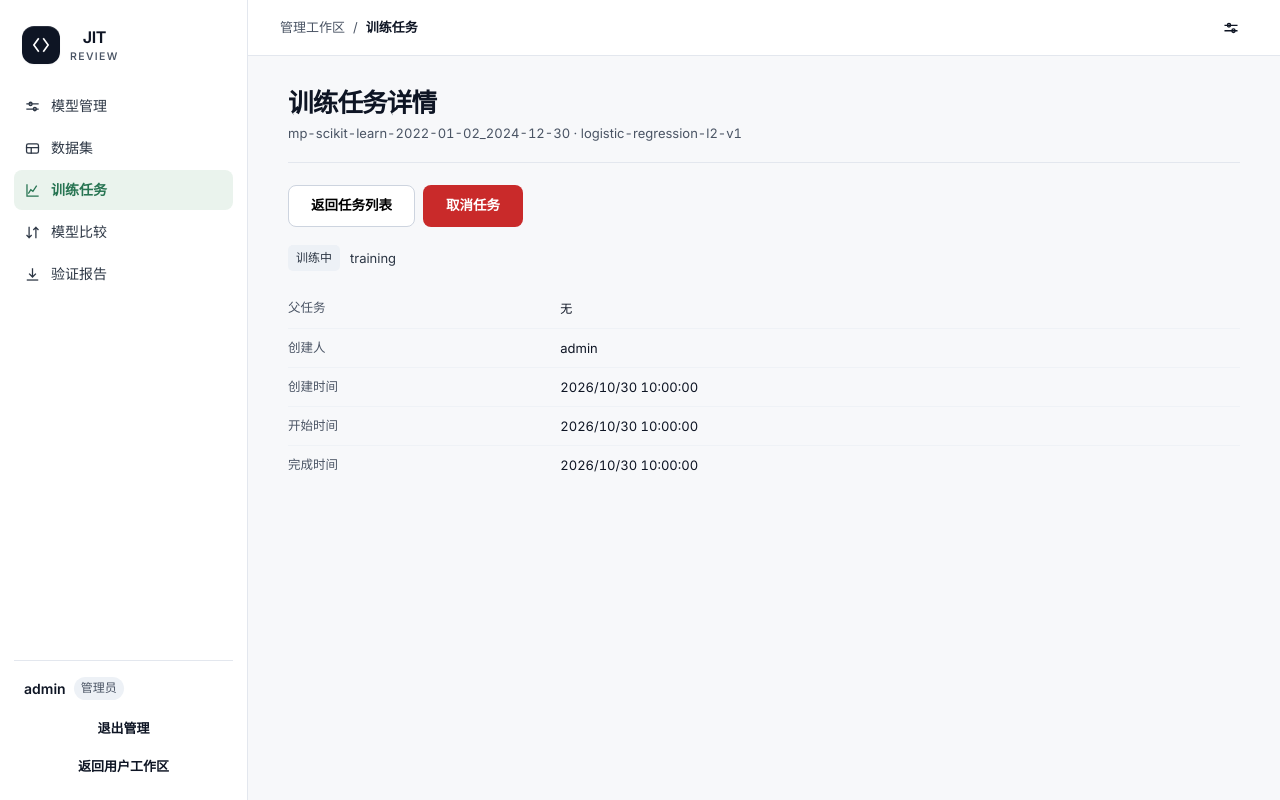
Test: keeps an actionable error visible when cancellation fails
Click the button "取消任务": (473, 206) [423,185,523,227]
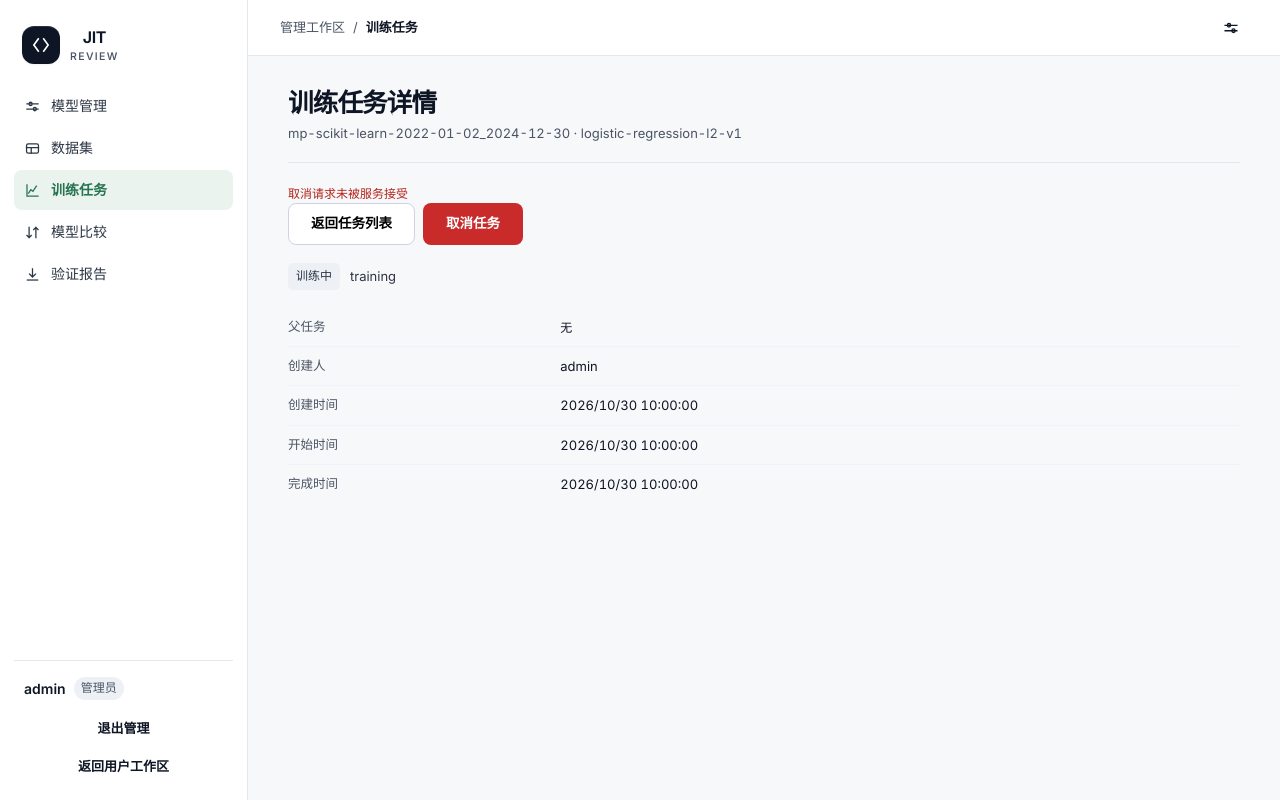
Check: the message reads "取消请求未被服务接受", box [288,186,408,201]
